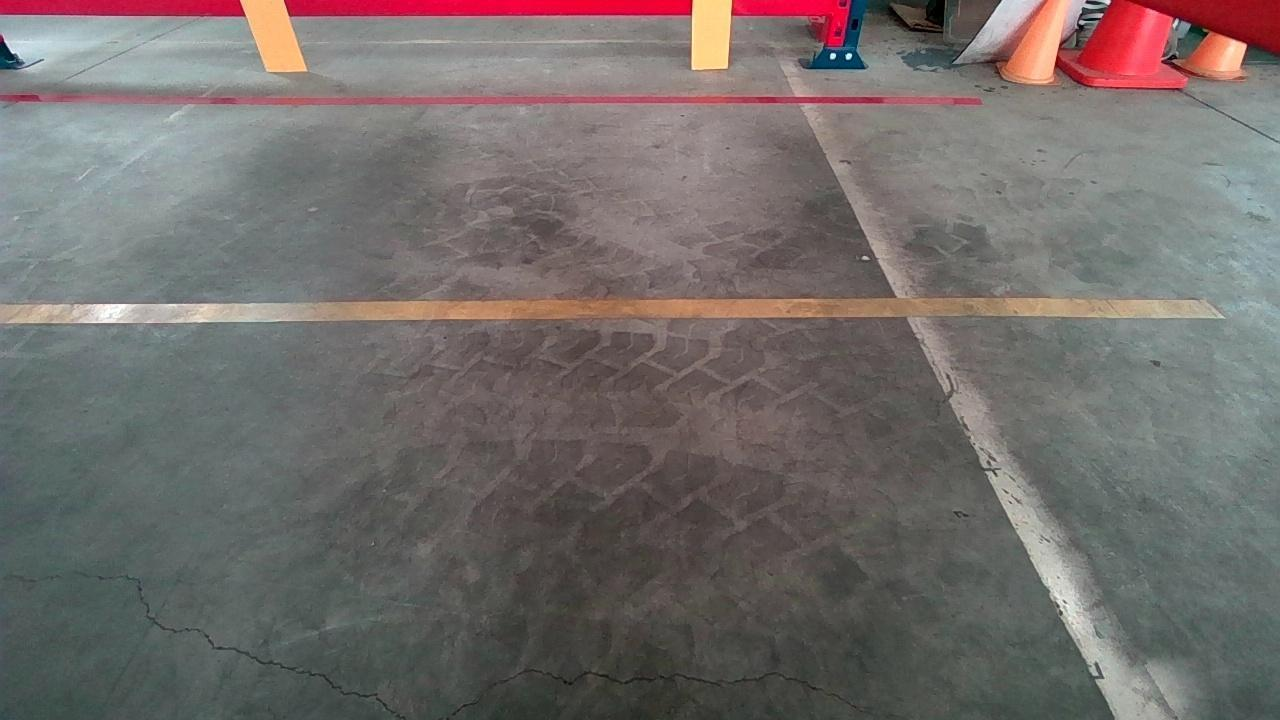h_rack: (0, 0, 830, 18)
orange_strip: (239, 0, 308, 70), (691, 0, 731, 66)
red_line: (8, 86, 967, 112)
yellow_line: (13, 288, 1197, 333)
